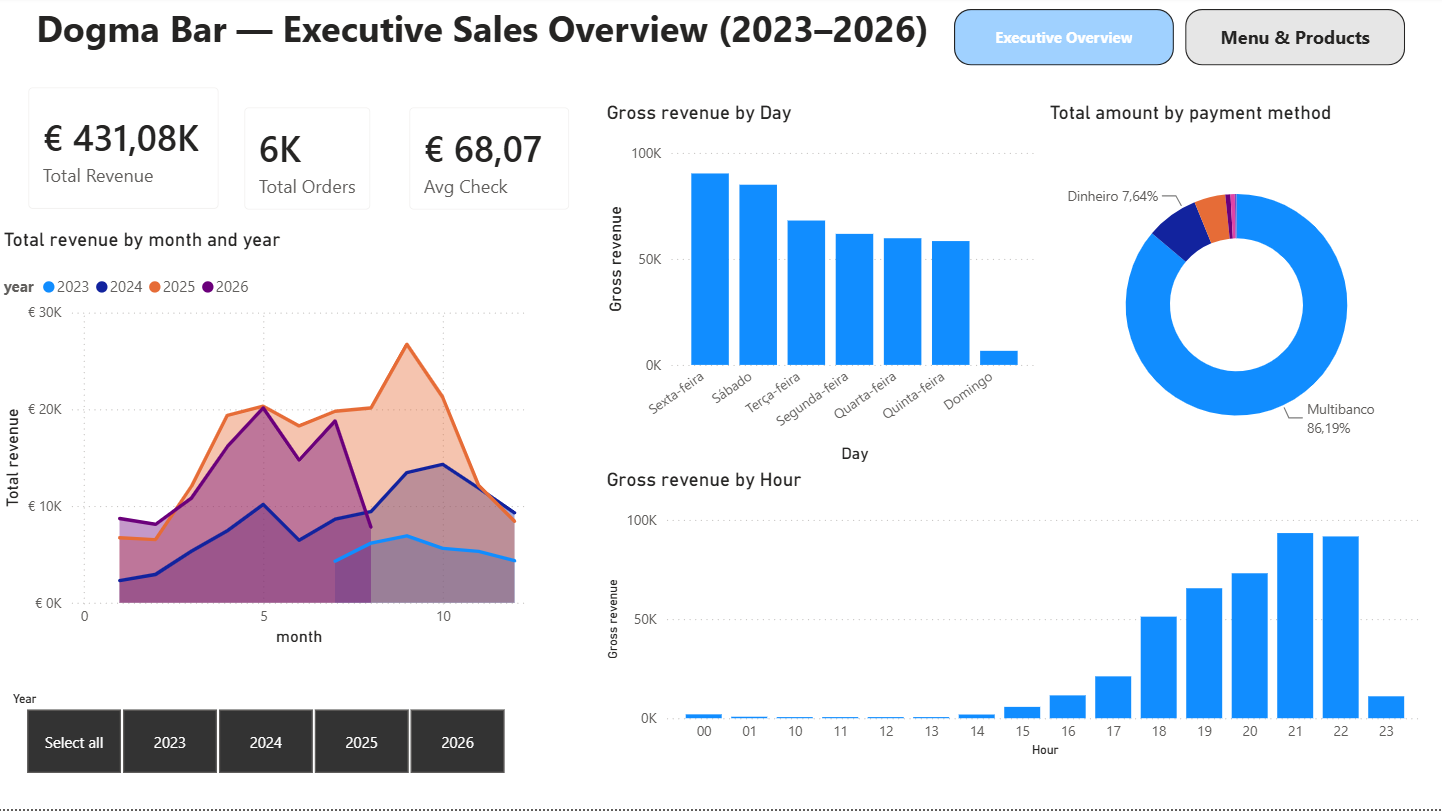

The page's visual inventory and layout, read from the dashboard file:
{"tool":"powerbi","page":{"name":"Executive Overview","canvas":[1280,720],"ordinal":0},"visuals":[{"type":"cardVisual","fields":{"Data":["public clean_documents.Total Revenue"]},"box":[9.8,63,203.3,142.4],"z":0},{"type":"cardVisual","fields":{"Data":["public clean_documents.Total Orders"]},"box":[201.1,80.4,146.7,125],"z":1000},{"type":"cardVisual","fields":{"Data":["public clean_documents.Avg Check"]},"box":[347.8,80.4,176.1,125],"z":2000},{"type":"clusteredColumnChart","fields":{"Category":["public clean_weekdays.day_label"],"Y":["Sum(public clean_weekdays.gross_revenue)"]},"box":[534.8,92.4,392.4,325],"z":3000},{"type":"areaChart","fields":{"Y":["public clean_documents.Total Revenue"],"Category":["public clean_documents.doc_month"],"Series":["public clean_documents.doc_year"]},"box":[0,205,473,375.6],"z":4000},{"type":"donutChart","fields":{"Category":["public clean_payment_types.payment_method"],"Y":["Sum(public clean_payment_types.total_amount)"]},"box":[927.2,92.4,341.3,329.3],"z":5000},{"type":"slicer","fields":{"Values":["public clean_documents.doc_year"]},"box":[0,611.1,473,84.3],"z":6000},{"type":"textbox","box":[0,0,859.2,70],"z":7000},{"type":"clusteredColumnChart","fields":{"Category":["public clean_hourly.hour_label"],"Y":["Sum(public clean_hourly.gross_revenue)"]},"box":[534.8,417.4,733.7,260.9],"z":8000},{"type":"pageNavigator","box":[847.7,10.6,400,50],"z":8001}]}

Visuals, with their boxes in screenshot pixels (x1, y1, x2, y2), scaled from the page's 1280x720 canvas onto the 1442x811 screenshot:
cardVisual - public clean_documents.Total Revenue: x1=11 y1=71 x2=240 y2=231
cardVisual - public clean_documents.Total Orders: x1=227 y1=91 x2=392 y2=231
cardVisual - public clean_documents.Avg Check: x1=392 y1=91 x2=590 y2=231
clusteredColumnChart - public clean_weekdays.day_label x Sum(public clean_weekdays.gross_revenue): x1=602 y1=104 x2=1045 y2=470
areaChart - public clean_documents.Total Revenue x public clean_documents.doc_month: x1=0 y1=231 x2=533 y2=654
donutChart - public clean_payment_types.payment_method x Sum(public clean_payment_types.total_amount): x1=1045 y1=104 x2=1429 y2=475
slicer - public clean_documents.doc_year: x1=0 y1=688 x2=533 y2=783
textbox: x1=0 y1=0 x2=968 y2=79
clusteredColumnChart - public clean_hourly.hour_label x Sum(public clean_hourly.gross_revenue): x1=602 y1=470 x2=1429 y2=764
pageNavigator: x1=955 y1=12 x2=1406 y2=68
